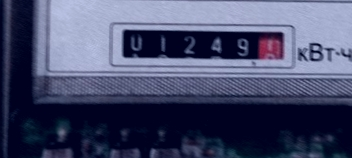0: (130, 29, 144, 50)
1: (157, 30, 169, 51)
2: (182, 31, 198, 53)
4: (211, 32, 224, 52)
7: (265, 29, 278, 50)
9: (237, 34, 250, 55)
screen: (108, 16, 299, 69)
